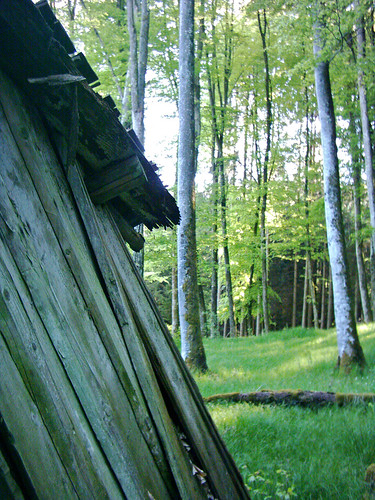building: (1, 17, 251, 500)
grass: (208, 340, 375, 500)
vegetation: (147, 1, 375, 345)
